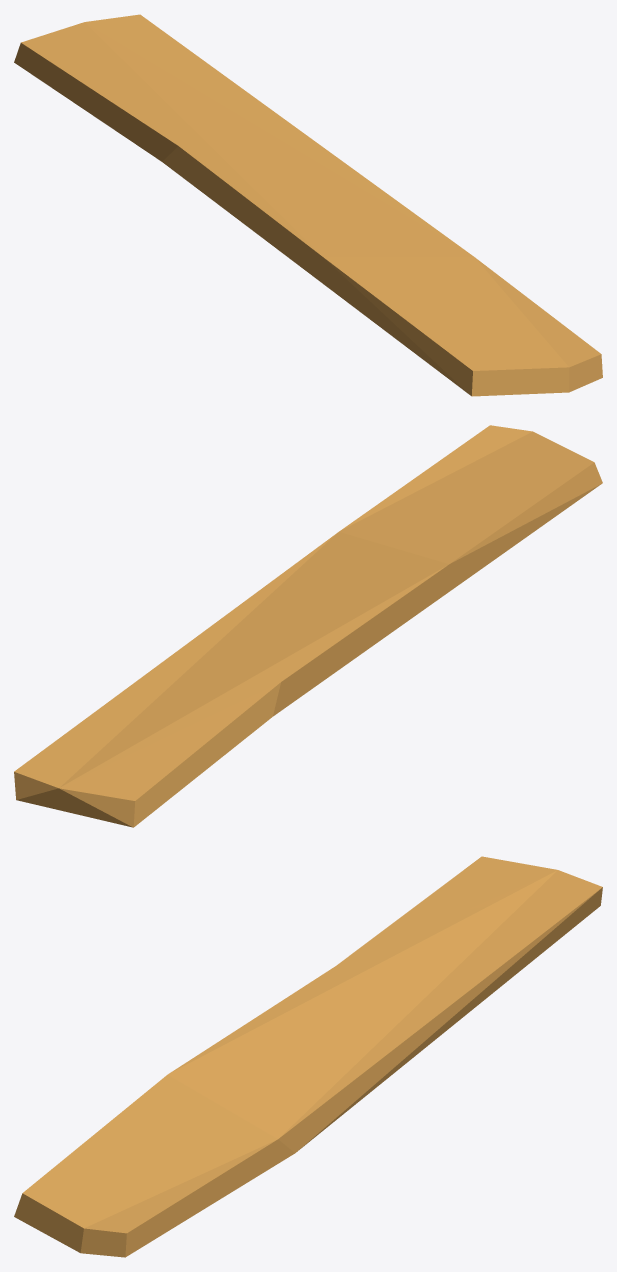
Rendered from Small plank of wood .fbx.
3 renders of one model, top to bottom at view 1: azimuth 30°, elevation 25°; view 2: azimuth 150°, elevation 25°; view 3: azimuth 330°, elevation 25°, orthographic. The views are drawn at different scales.
Parts seen in each view (by area): view 1: Small plank of wood; view 2: Small plank of wood; view 3: Small plank of wood.
Part boxes in pixels (<box>): Small plank of wood: <box>14,14,602,396</box>; Small plank of wood: <box>14,425,602,827</box>; Small plank of wood: <box>14,856,602,1257</box>.
Bounding box in the file's own units: 33.49 × 9.95 × 210.
